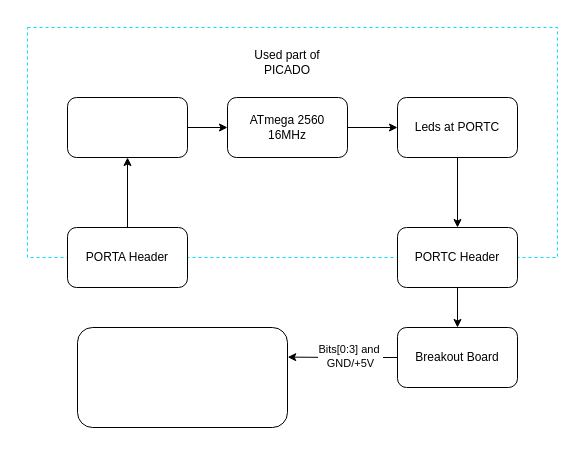
Some shapes in this 584 by 454 pixel diagram are drawn without their labels. Each missing label, with the centre of its shape:
"Buttons at PORTA" goes at point 127,127.
"Stepmotor with Driver: Bit0 > Φ 1 Bit1 > Φ2 Bit2 > Φ3 Bit3 > Φ4" goes at point 182,377.
